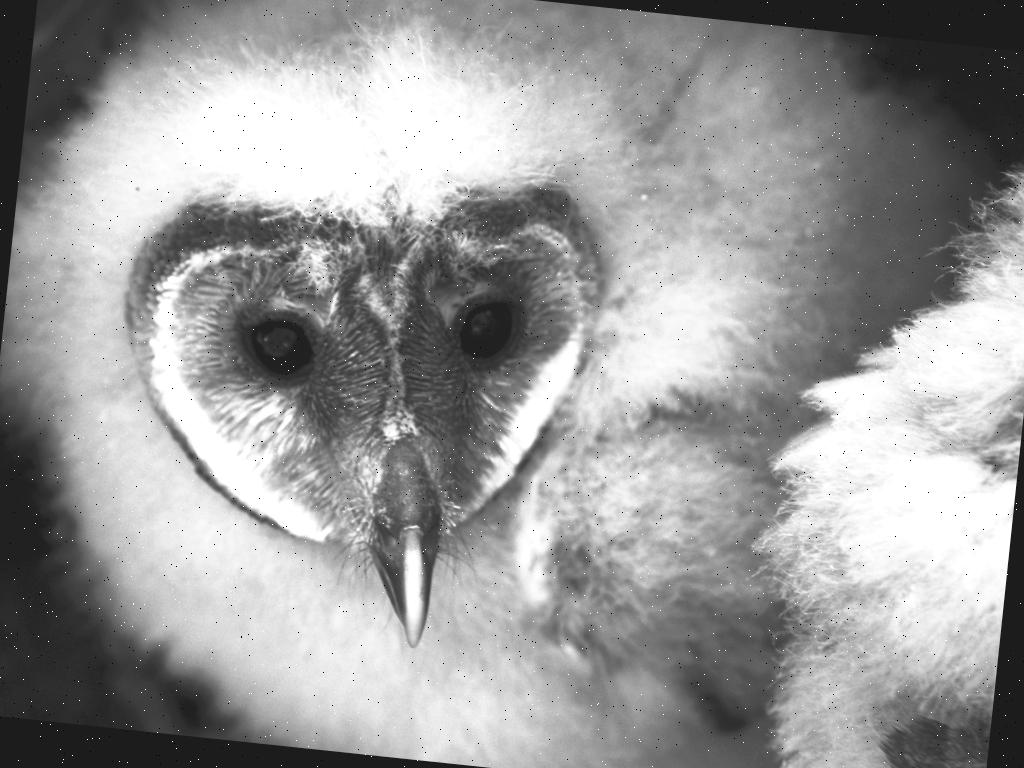Owl: (0, 0, 967, 768)
